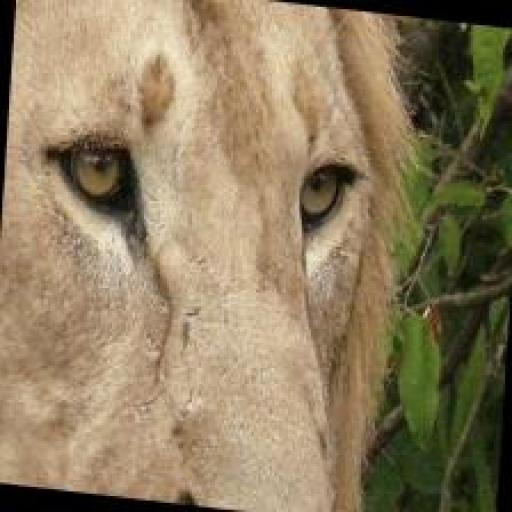lion: (0, 0, 464, 511)
